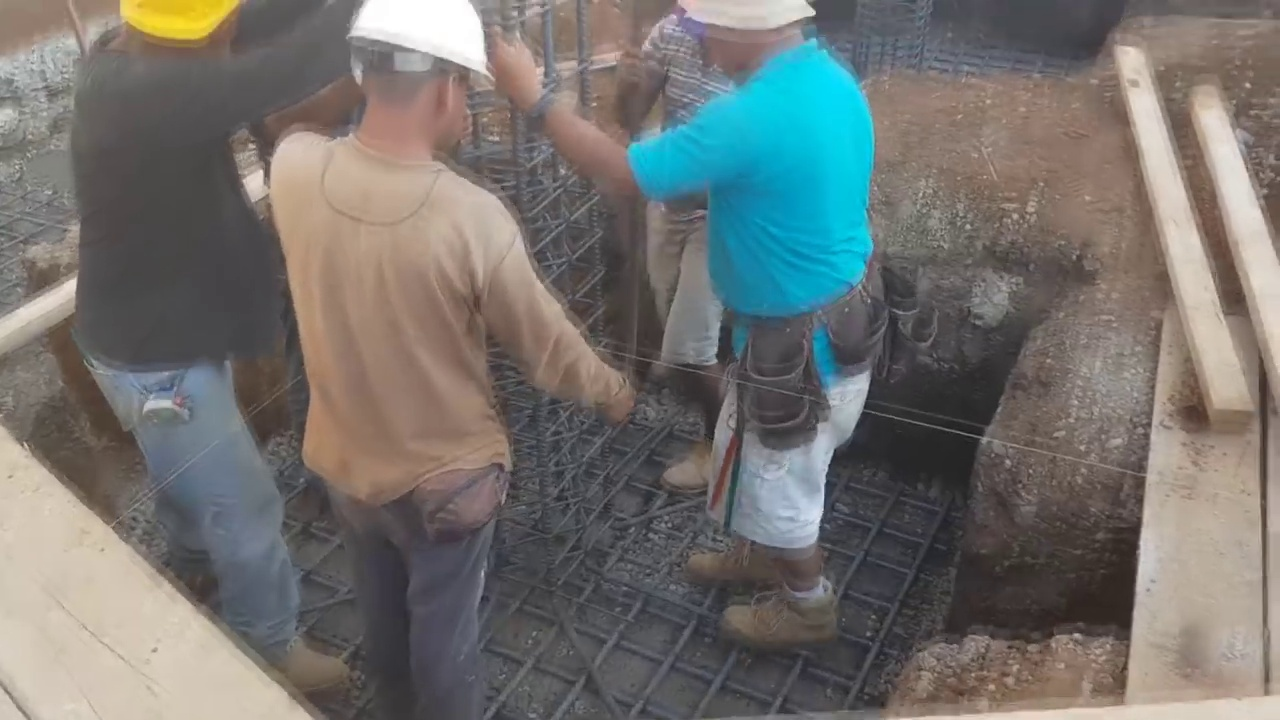helmet: (345, 0, 498, 93)
helmet-off: (675, 2, 816, 83)
helmet-on: (344, 4, 494, 166), (112, 2, 235, 72)
person: (276, 0, 626, 718), (495, 12, 885, 601), (72, 13, 351, 697), (638, 0, 739, 492)
